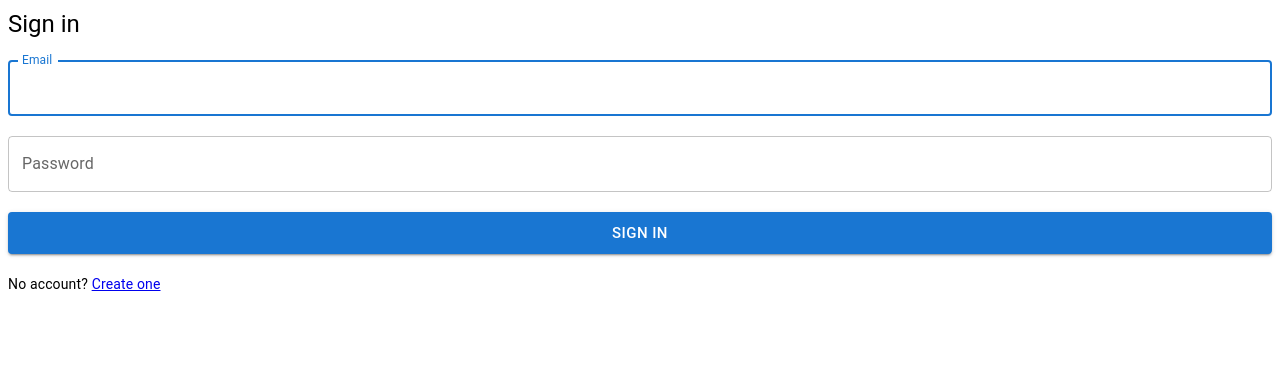
Test case: LoginForm › re-enables the button after a failed submit
Type "ada@example.com" into the field labelled "Email". click: (640, 88)
box: top-left (8, 60), bottom-right (1272, 116)
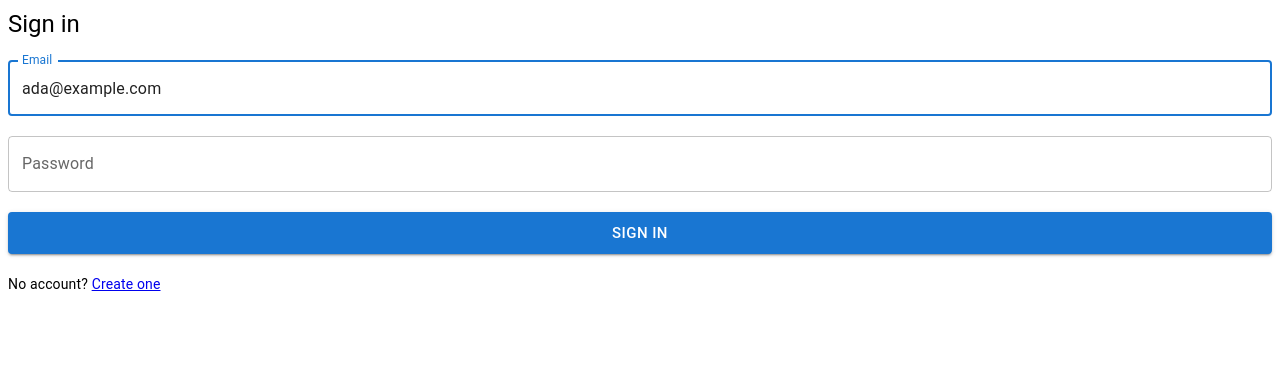
Type "whatever" into the password field labelled "Password". click: (640, 164)
box: top-left (8, 136), bottom-right (1272, 192)
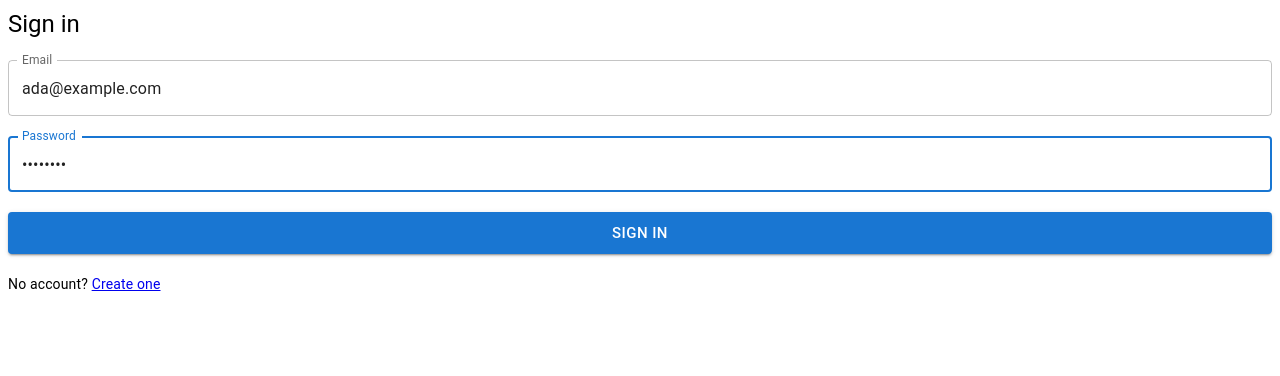
Click the button "Sign in". click: (640, 233)
box: top-left (8, 212), bottom-right (1272, 254)
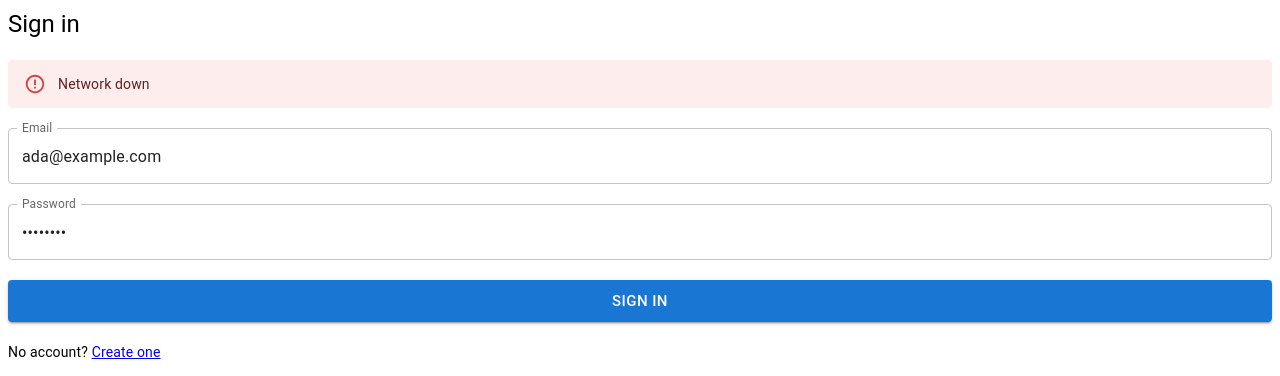
Expected: the button "Sign in" is enabled, top-left (8, 280), bottom-right (1272, 322)
Expected: the message "Network down" is shown, top-left (8, 60), bottom-right (1272, 108)
